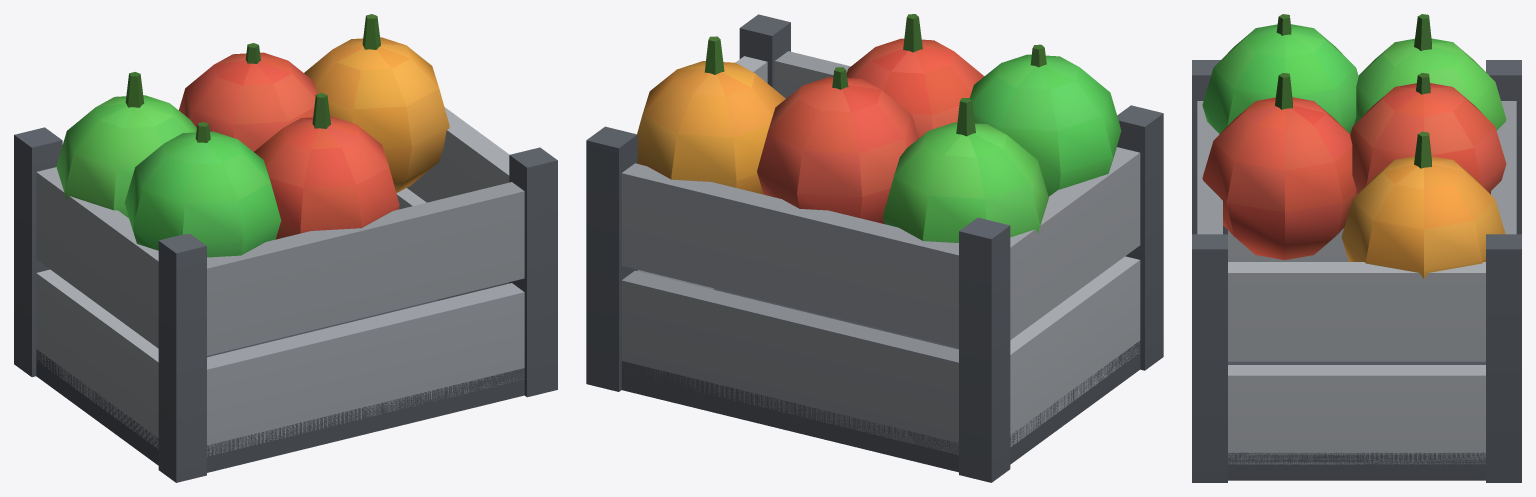
File: food_crate.glb
3 views of the same model, side by side, from view 1: azimuth 30°, elevation 25°; view 2: azimuth 150°, elevation 25°; view 3: azimuth 270°, elevation 25° (orthographic). The views are drawn at different scales.
Parts seen in each view (by area): view 1: foodcrate_body; view 2: foodcrate_body; view 3: foodcrate_body.
Part boxes in pixels (box(x1,y1,x2,y2)): foodcrate_body: box(14, 14, 557, 482); foodcrate_body: box(586, 14, 1163, 482); foodcrate_body: box(1192, 14, 1521, 482).
Size of the model in its own units: 0.87 by 0.67 by 0.64.
